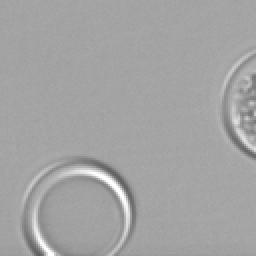picoshell: (22, 156, 134, 254), (220, 50, 254, 158)
